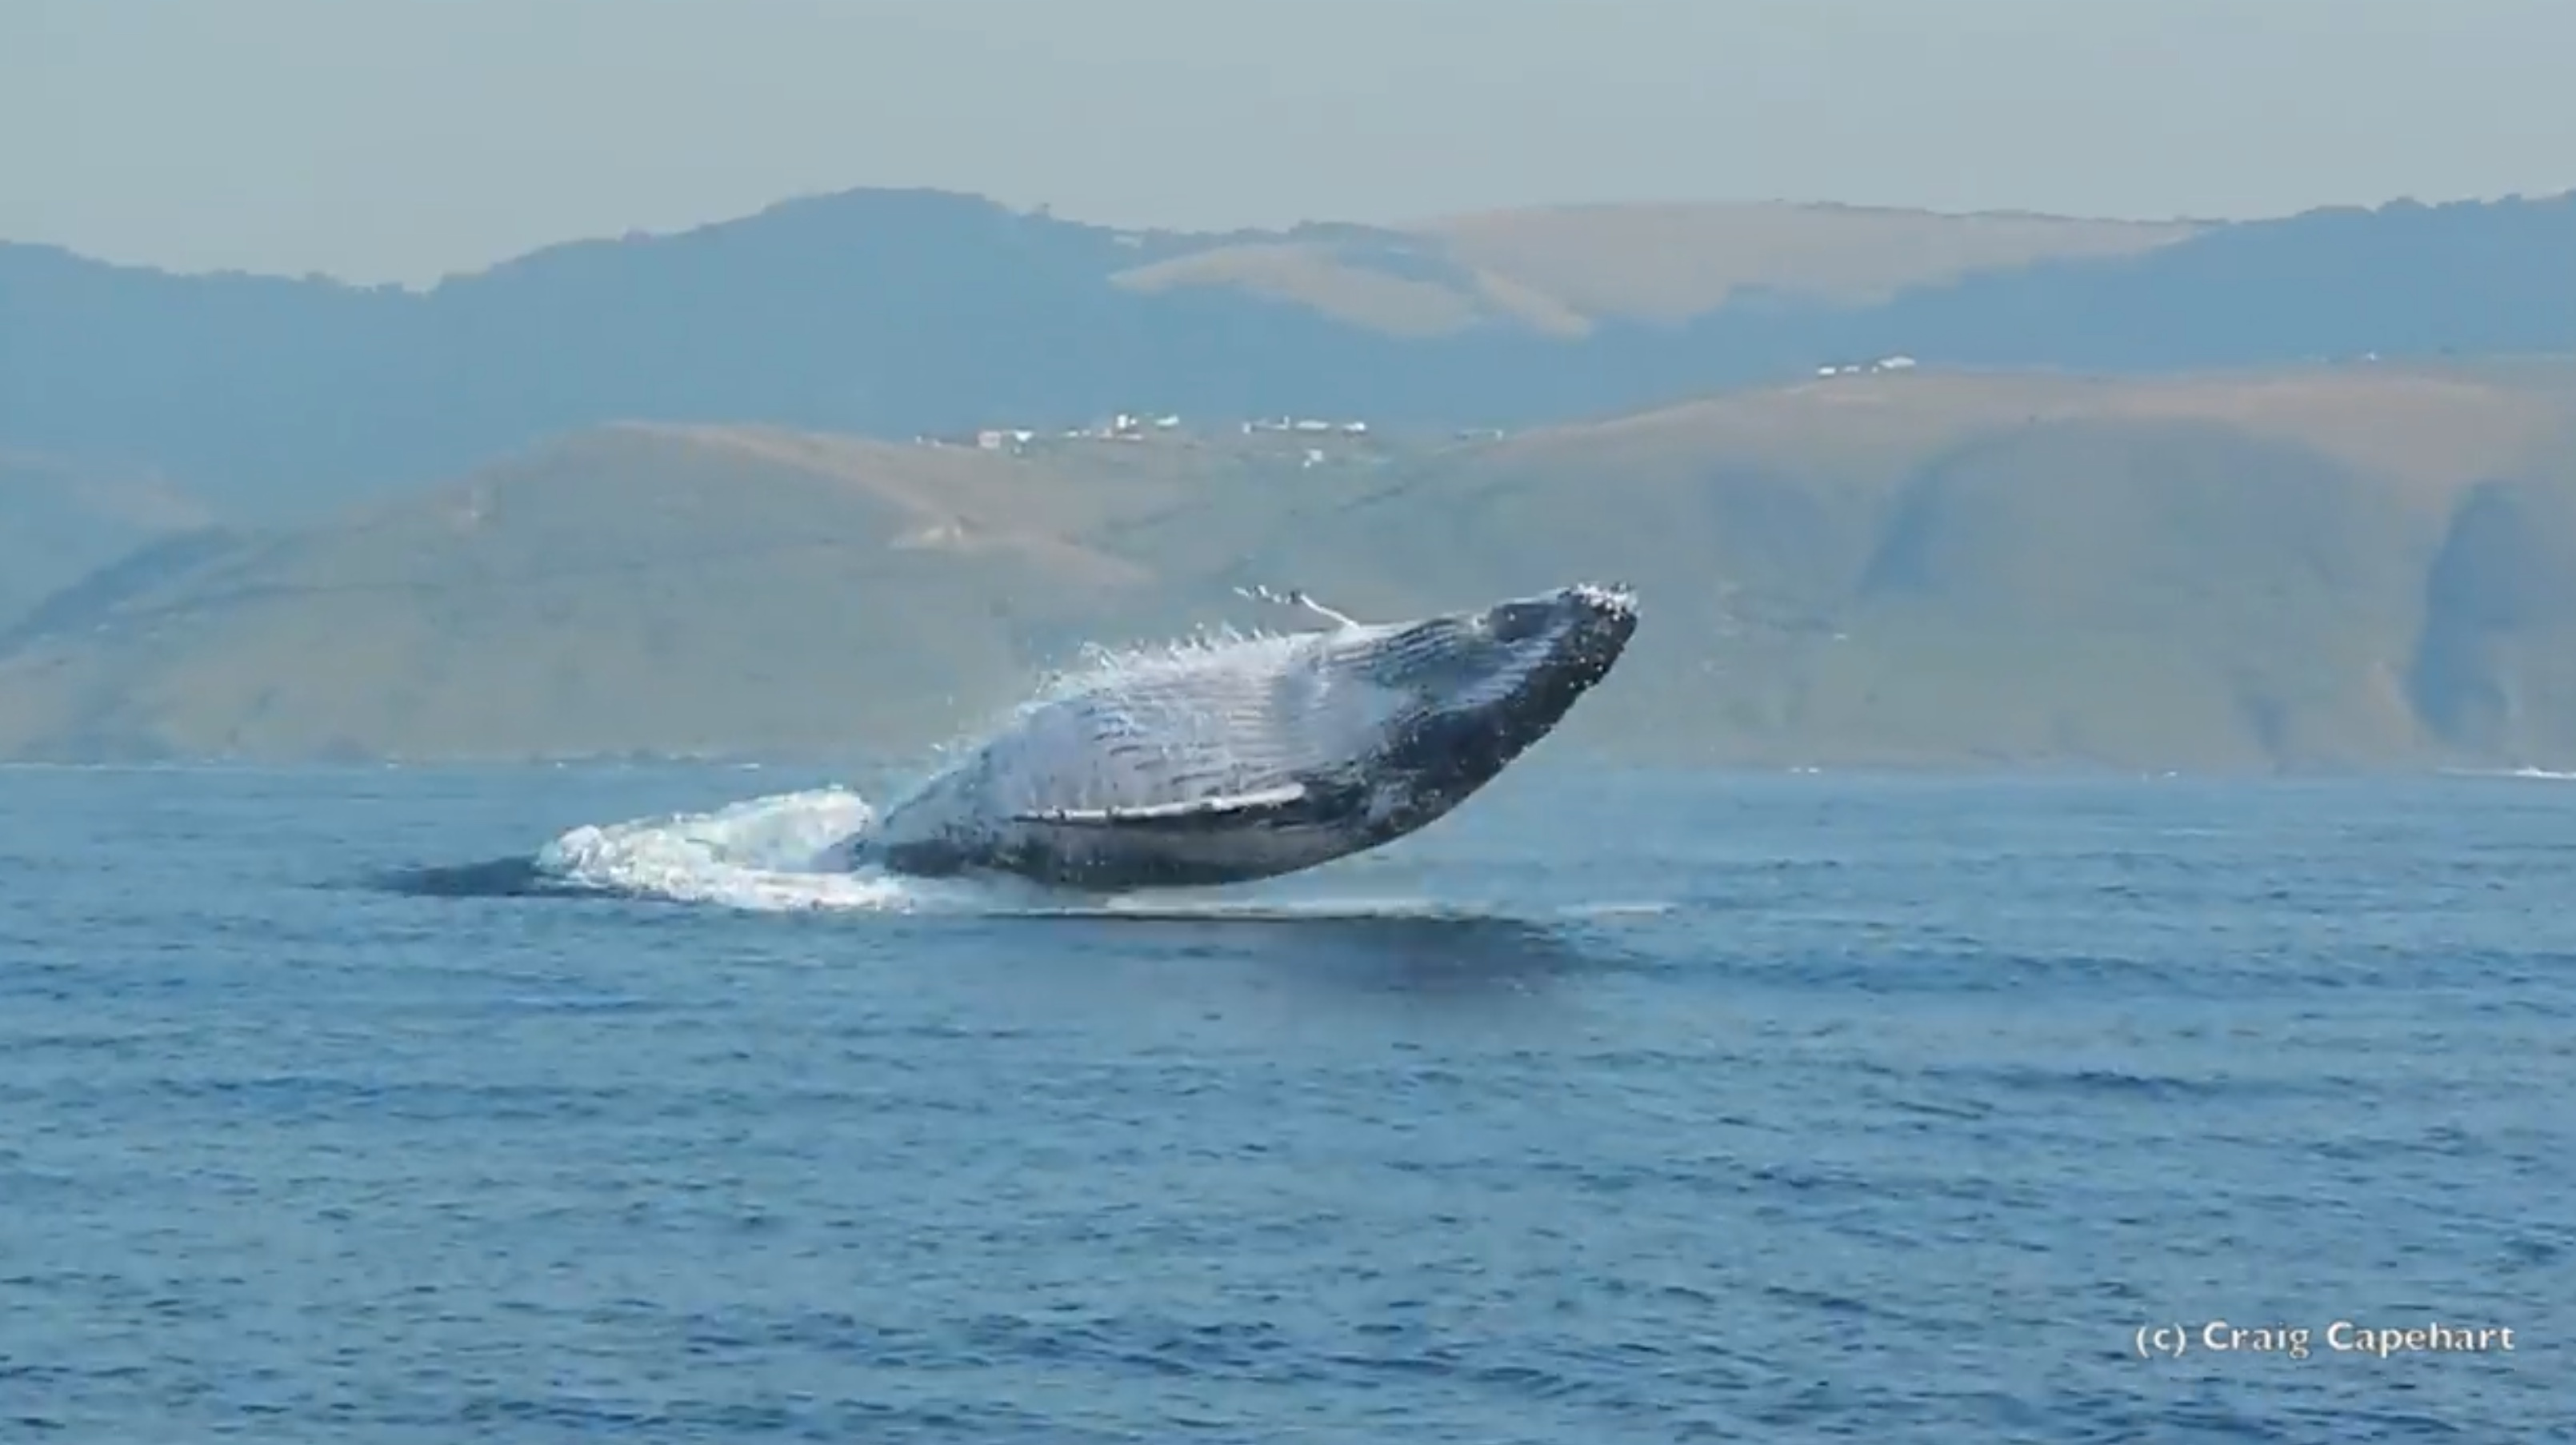humpback: (809, 571, 1644, 883)
